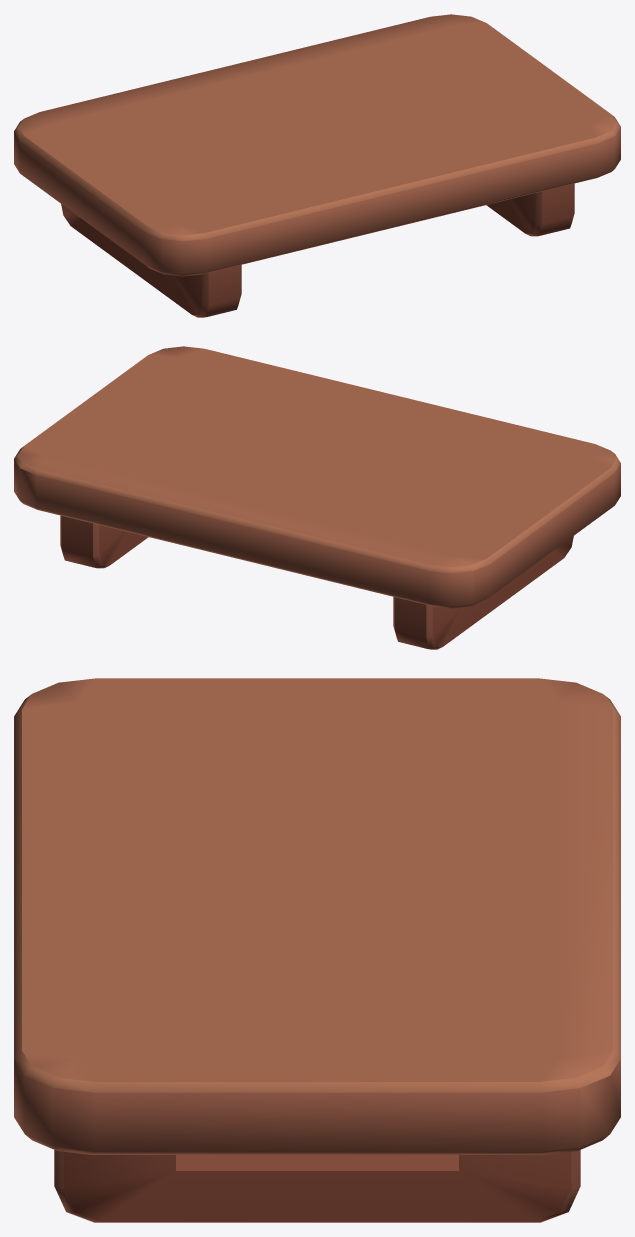
3 renders of one model, top to bottom at view 1: azimuth 30°, elevation 25°; view 2: azimuth 150°, elevation 25°; view 3: azimuth 270°, elevation 25°, orthographic. The views are drawn at different scales.
Visible parts, largest first — view 1: table_low; view 2: table_low; view 3: table_low.
Boxes of the visible parts, box(x1,y1,x2,y2) form: table_low: box(14, 14, 620, 317); table_low: box(14, 346, 620, 649); table_low: box(14, 678, 620, 1222).
Bounding box in the file's own units: 2.4 × 0.5 × 1.5.
Materials: 1 (1 with a texture image).
